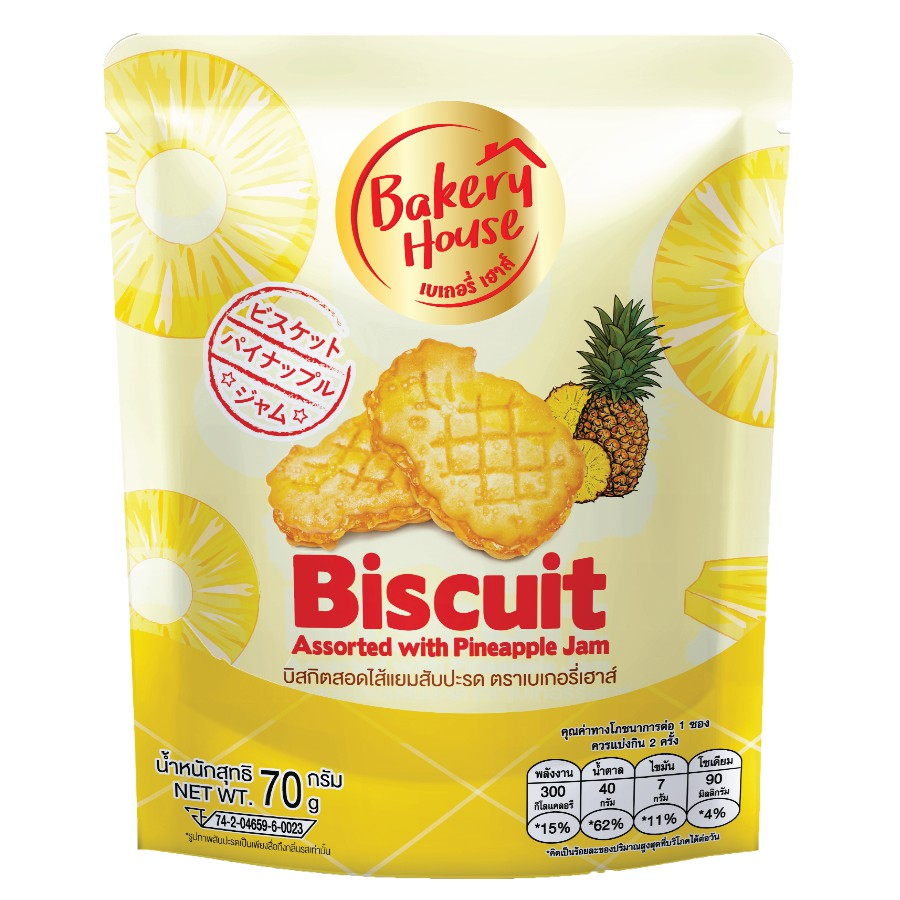Snack: (79, 29, 795, 885)
